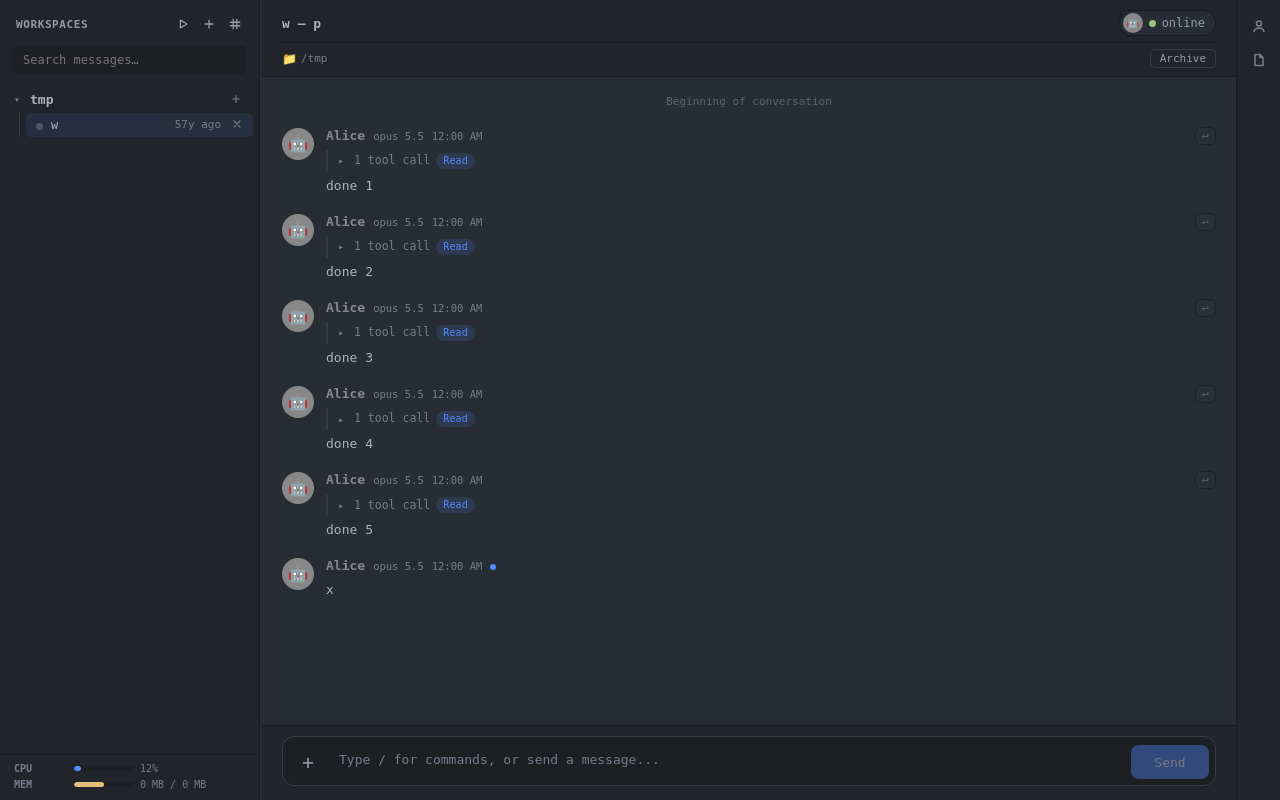
Test: render cost of a live transcript › re-renders only the message that changed
Type "f" into the text box with placeholder "Type / for commands, or send a message..." at (728, 761), box [333,743,1123,779]
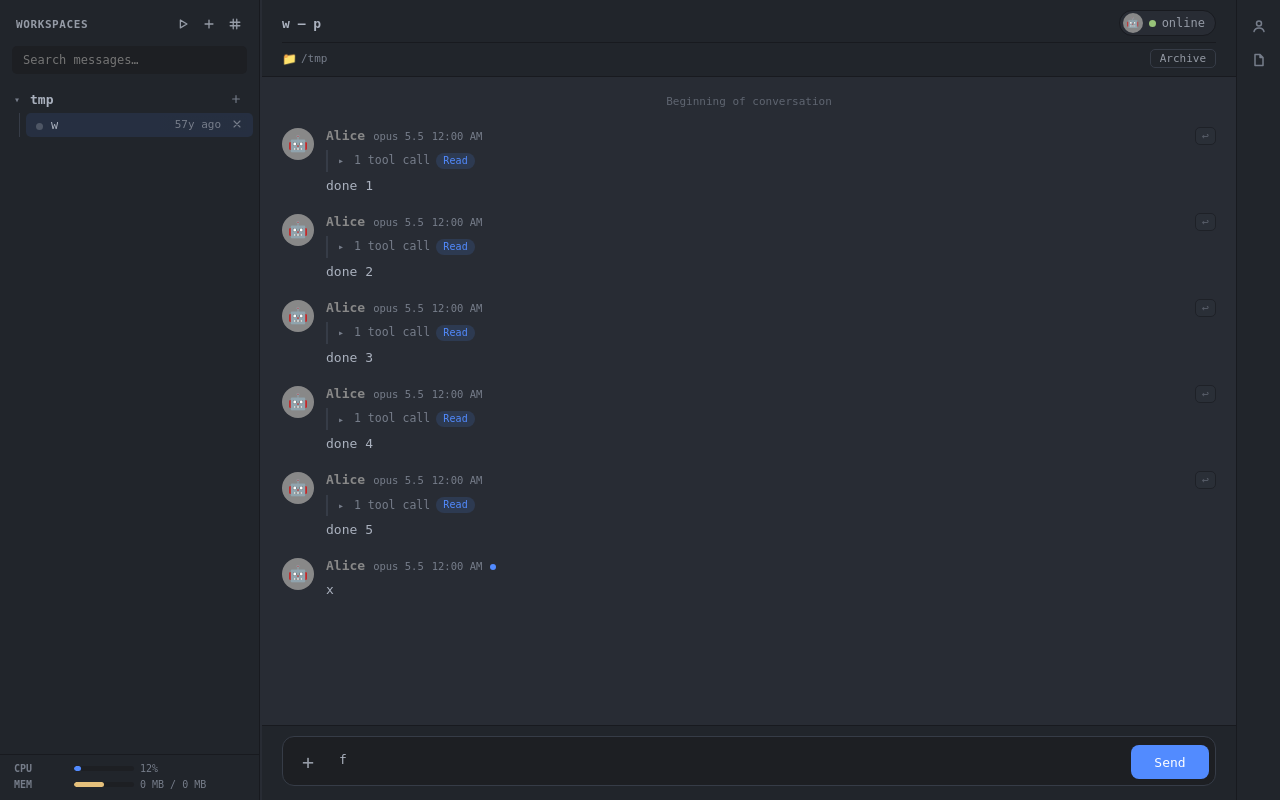
Replace the text in the text box with "fix" at (728, 761), box [333,743,1123,779]
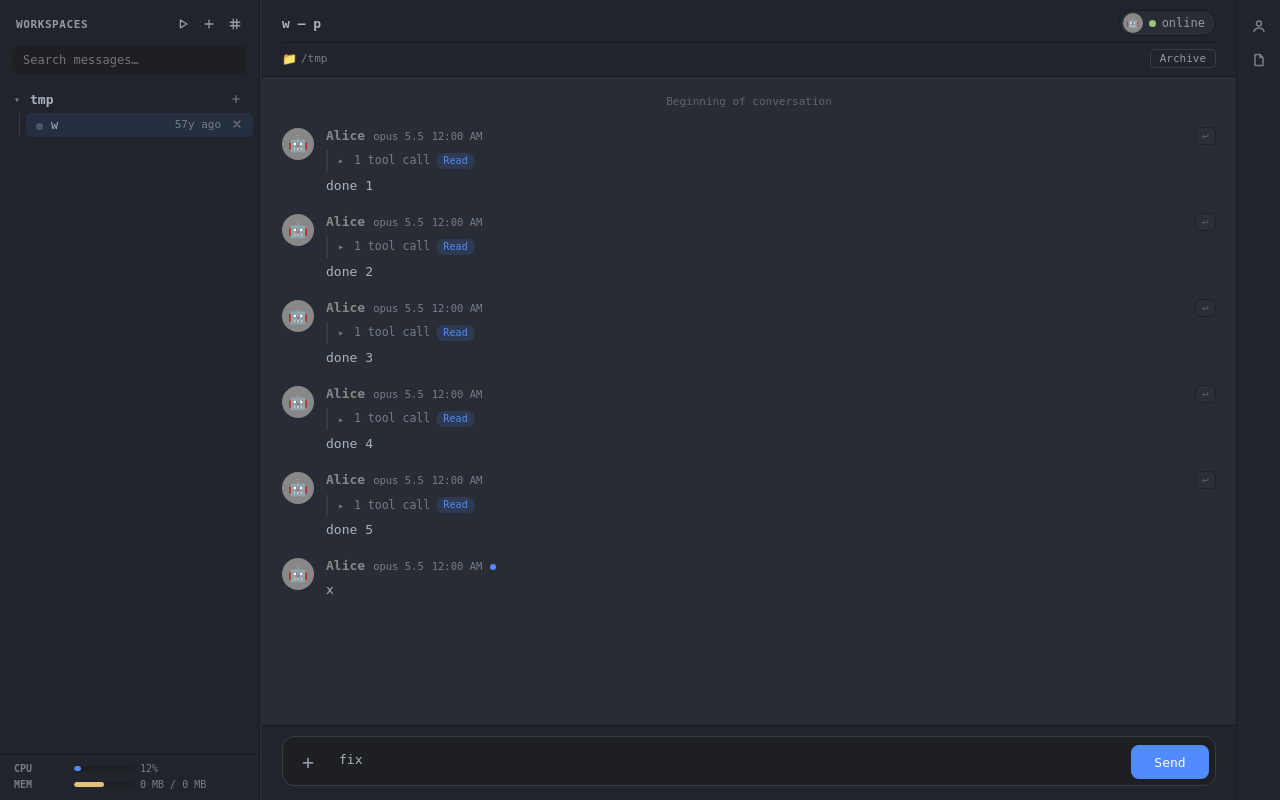
Replace the text in the text box with "fix @" at (728, 761), box [333,743,1123,779]
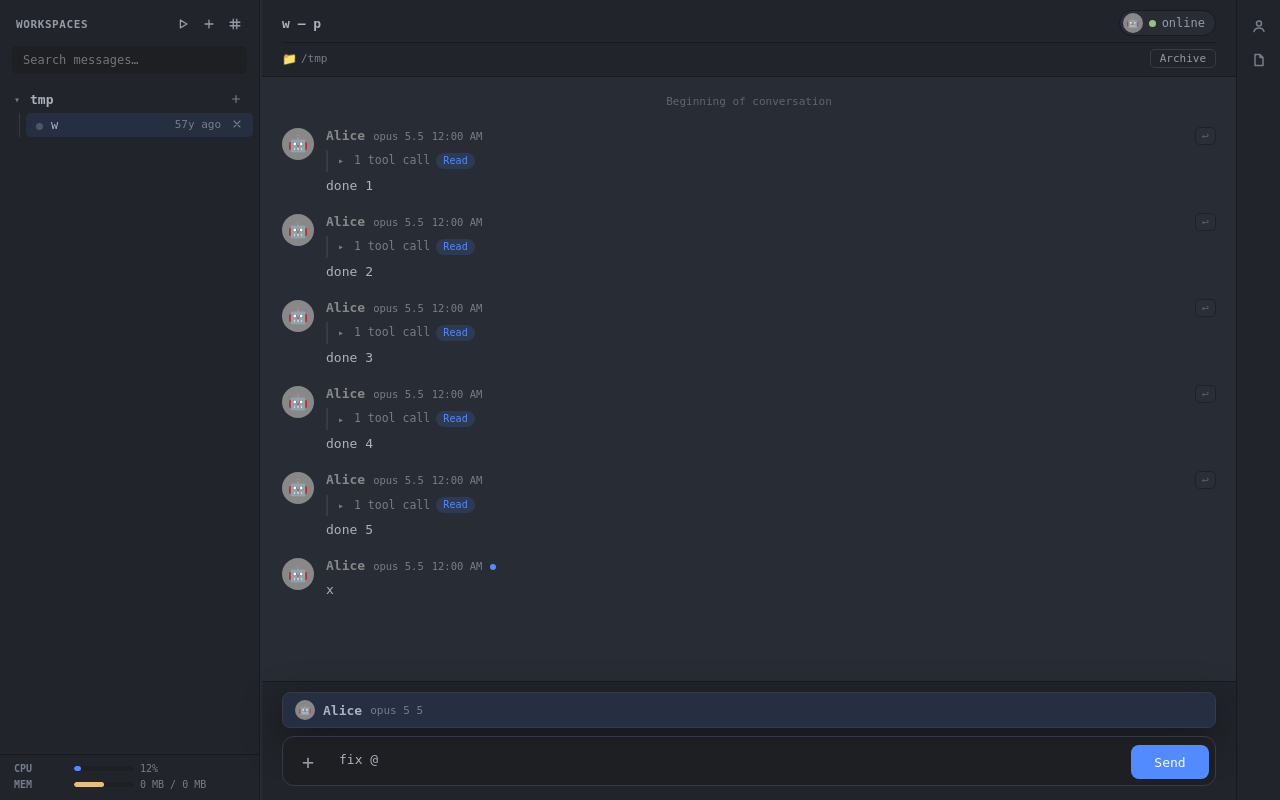
Replace the text in the text box with "fix @Al" at (728, 761), box [333,743,1123,779]
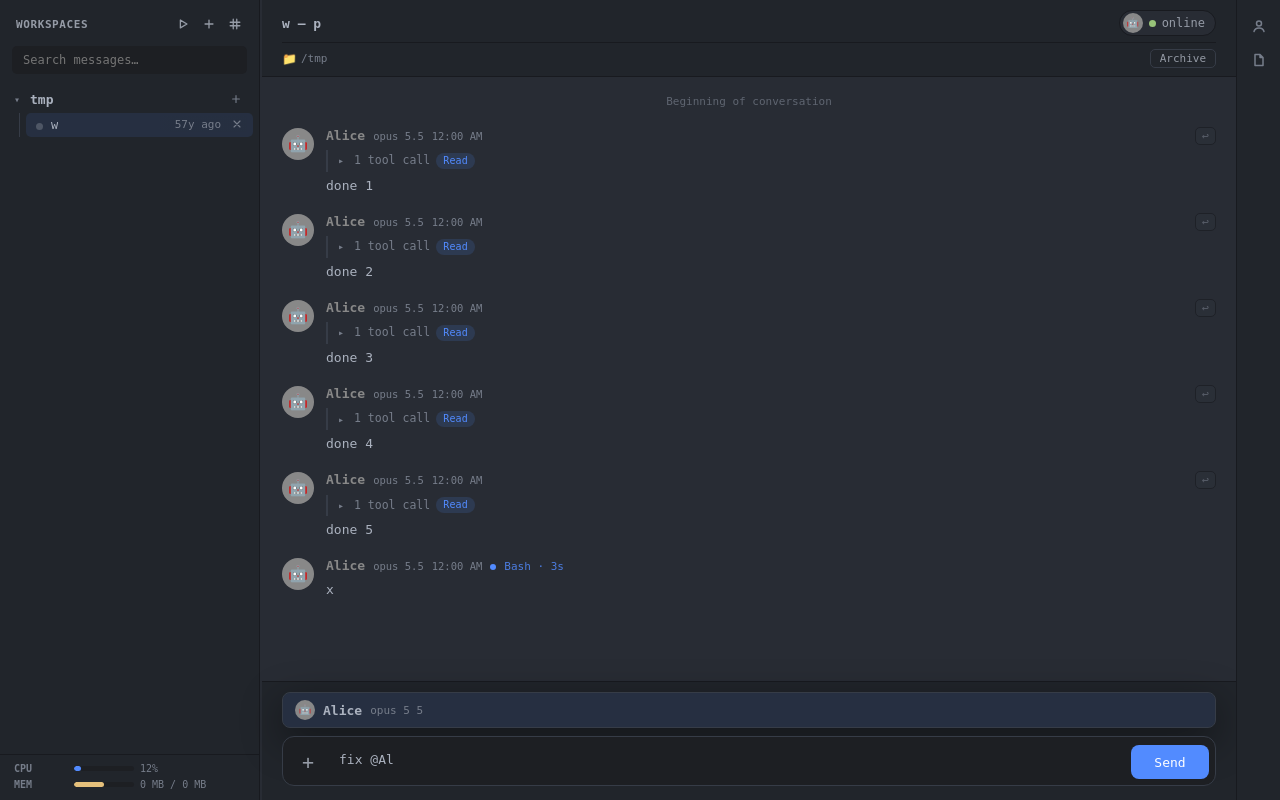
Check: the text with class "activity-label" reads "Bash · 3s", box [504,560,564,574]
